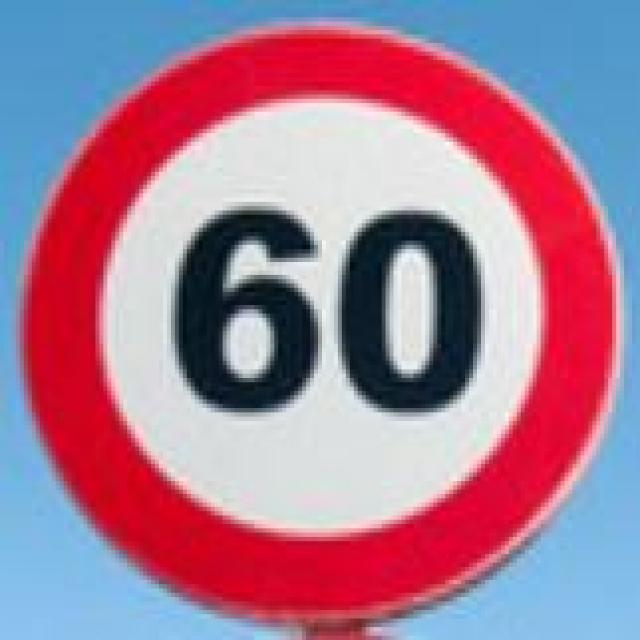speed_limit_60: (16, 21, 620, 623)
